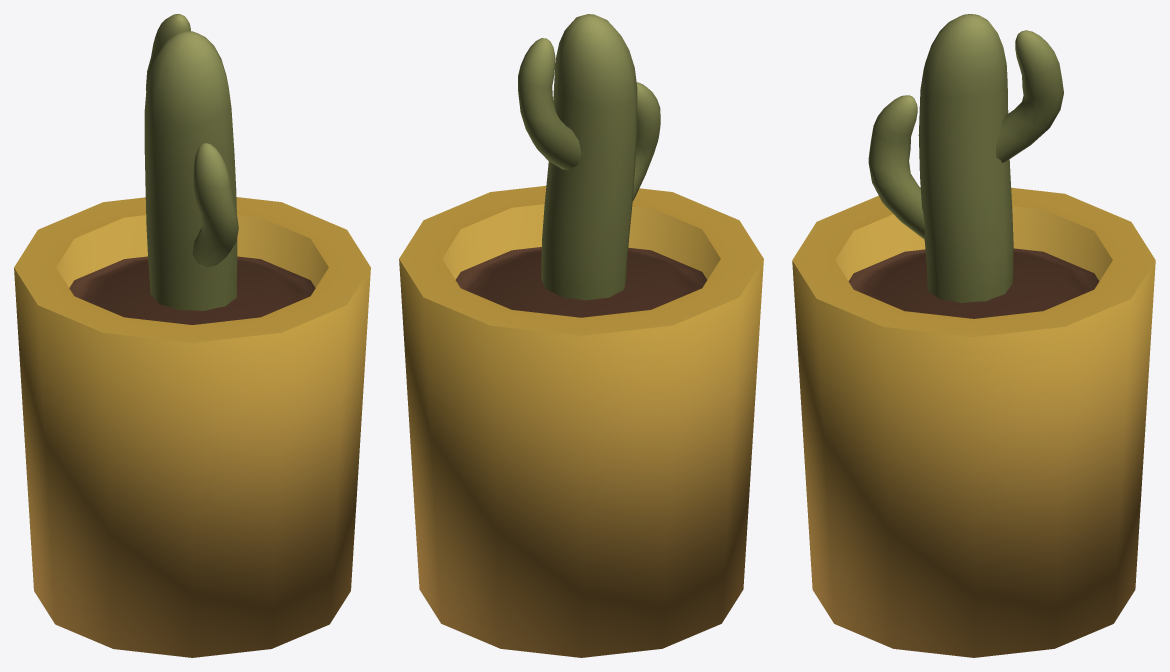
Rendered from Cactus_2.fbx.
The picture shows the model from 3 angles, left to right: view 1: azimuth 30°, elevation 25°; view 2: azimuth 150°, elevation 25°; view 3: azimuth 270°, elevation 25°; orthographic projection. The views are drawn at different scales.
Parts seen in each view (by area): view 1: Cylinder.003; view 2: Cylinder.003; view 3: Cylinder.003.
Part boxes in pixels (x1=…): Cylinder.003: x1=14, y1=14, x2=370, y2=657; Cylinder.003: x1=399, y1=14, x2=763, y2=657; Cylinder.003: x1=792, y1=14, x2=1155, y2=657.
Size of the model in its own units: 200 by 346 by 200.
